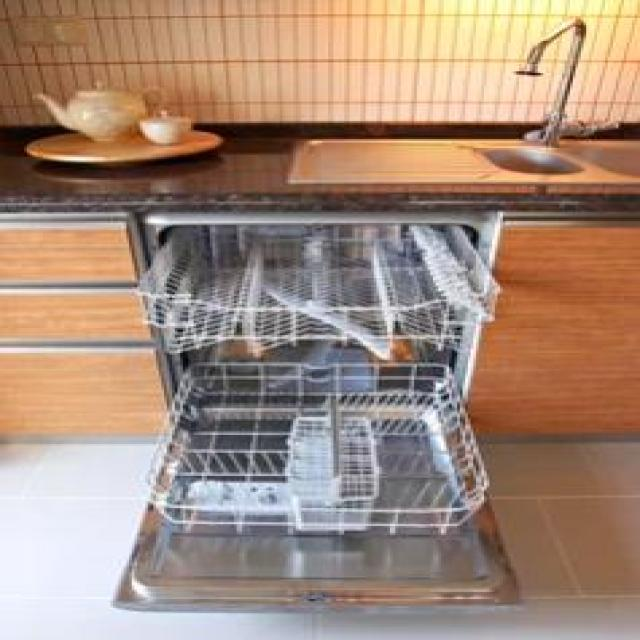dishwasher: (102, 205, 530, 622)
